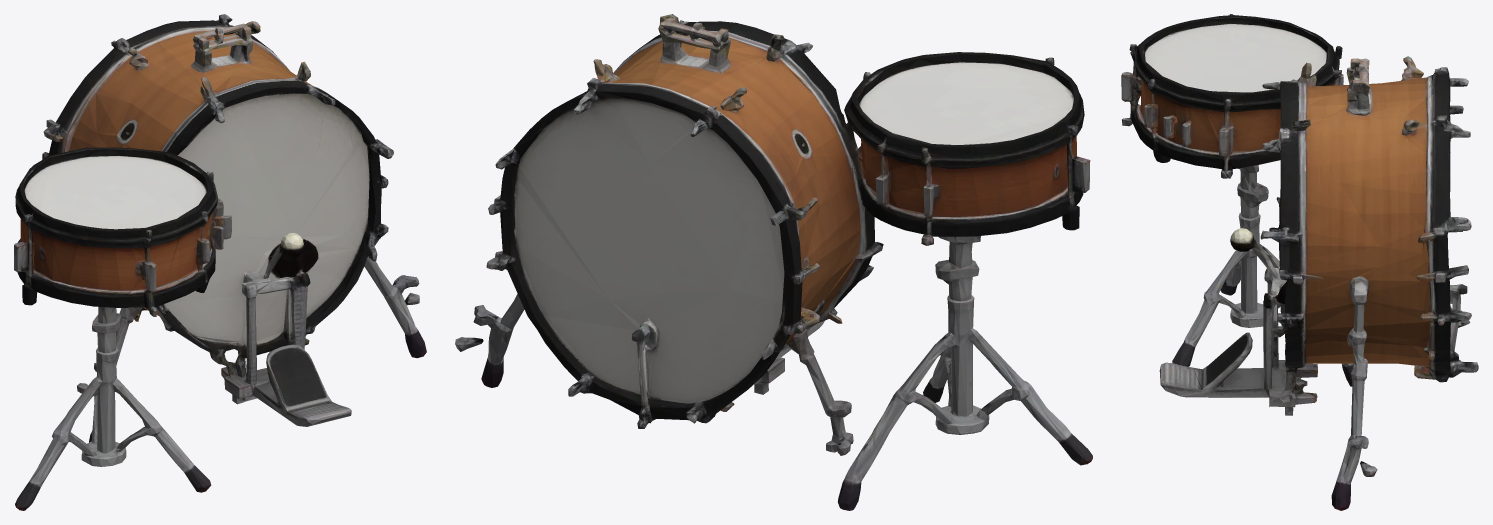
Rendered from drum_kit_bass_snare.glb.
3 views of the same model, side by side, from view 1: azimuth 30°, elevation 25°; view 2: azimuth 150°, elevation 25°; view 3: azimuth 270°, elevation 25° (orthographic). The views are drawn at different scales.
Visible parts, largest first — view 1: geometry_0; view 2: geometry_0; view 3: geometry_0.
Part boxes in pixels (<box>): geometry_0: <box>14,14,426,510</box>; geometry_0: <box>455,14,1092,510</box>; geometry_0: <box>1121,14,1478,510</box>.
Size of the model in its own units: 0.9942 by 0.7819 by 0.6669.
1 material, 1 textured.
